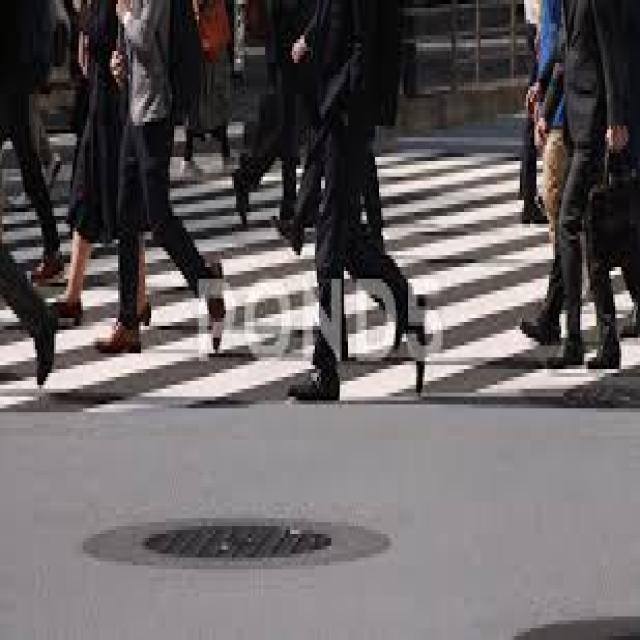Pedestrians: (288, 4, 431, 404), (95, 4, 228, 361), (544, 4, 640, 377)
